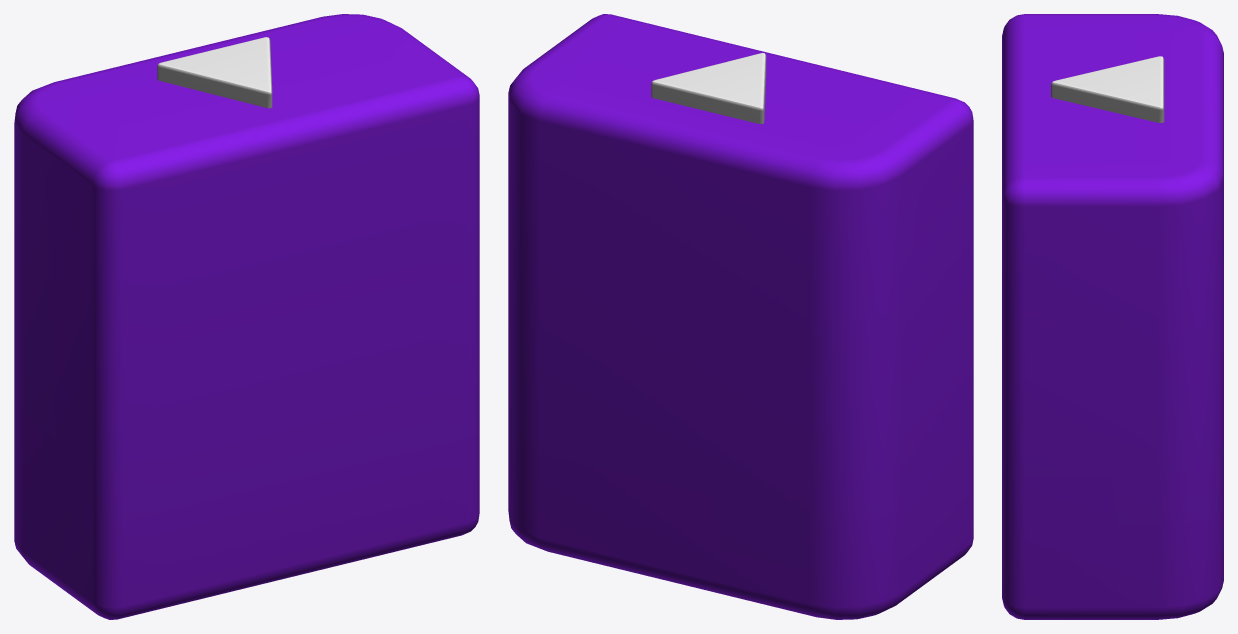
File: Blast_Purple.fbx
The picture shows the model from 3 angles, left to right: view 1: azimuth 30°, elevation 25°; view 2: azimuth 150°, elevation 25°; view 3: azimuth 270°, elevation 25°; orthographic projection. The views are drawn at different scales.
Parts seen in each view (by area): view 1: Blast_Purple; view 2: Blast_Purple; view 3: Blast_Purple.
Boxes of the visible parts, x1=… form: Blast_Purple: x1=14, y1=14, x2=479, y2=619; Blast_Purple: x1=508, y1=14, x2=973, y2=619; Blast_Purple: x1=1002, y1=14, x2=1223, y2=619.
Size of the model in its own units: 1.01 by 1.19 by 0.525.
1 material, 1 textured.
